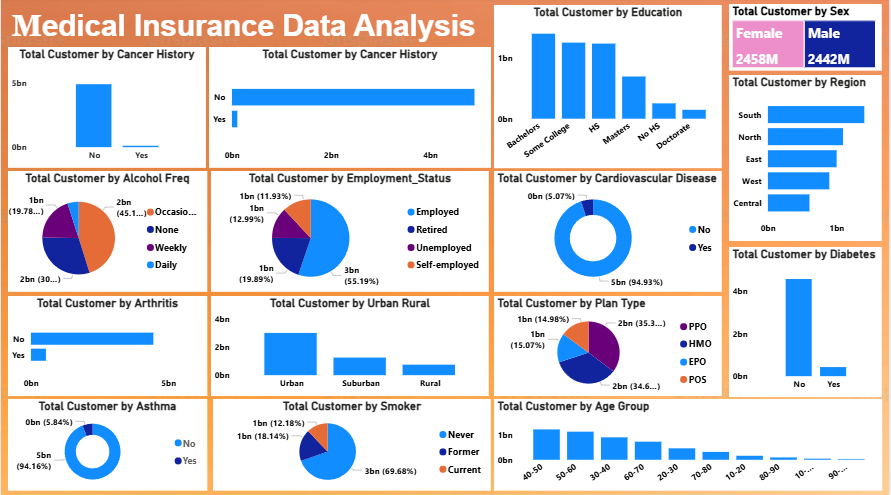

What the dashboard file says about the page in this screenshot:
{"tool":"powerbi","page":{"name":"Page 1","canvas":[1280,720],"ordinal":0},"visuals":[{"type":"textbox","box":[10.1,11.8,692.1,95.7],"z":0},{"type":"clusteredColumnChart","title":"Total Customer by Cancer History","fields":{"Category":["medical_insurance.cancer_history"],"Y":["Sum(medical_insurance.person_id)"]},"box":[10.1,72,285.1,174.2],"z":1000},{"type":"pieChart","title":"Total Customer by Alcohol Freq","fields":{"Category":["medical_insurance.alcohol_freq"],"Y":["Sum(medical_insurance.person_id)"]},"box":[10.1,250.9,286.6,174.2],"z":2000},{"type":"barChart","title":"Total Customer by Arthritis","fields":{"Category":["medical_insurance.arthritis"],"Y":["Sum(medical_insurance.person_id)"]},"box":[10.1,430.9,286.6,144],"z":3000},{"type":"donutChart","title":"Total Customer by Asthma","fields":{"Category":["medical_insurance.asthma"],"Y":["Sum(medical_insurance.person_id)"]},"box":[10.1,578.9,286.6,132.5],"z":4000},{"type":"treemap","title":"Total Customer by Sex","fields":{"Group":["medical_insurance.sex"],"Values":["Sum(medical_insurance.person_id)"]},"box":[1048.3,10.1,220.3,96.5],"z":5000},{"type":"barChart","title":"Total Customer by Cancer History","fields":{"Category":["medical_insurance.cancer_history"],"Y":["Sum(medical_insurance.person_id)"]},"box":[299.5,72,406.1,174.2],"z":6000},{"type":"donutChart","title":"Total Customer by Cardiovascular Disease","fields":{"Category":["medical_insurance.cardiovascular_disease"],"Y":["Sum(medical_insurance.person_id)"]},"box":[709.9,250.6,328.3,174.2],"z":7000},{"type":"clusteredColumnChart","title":"Total Customer by Diabetes","fields":{"Category":["medical_insurance.diabetes"],"Y":["Sum(medical_insurance.person_id)"]},"box":[1048.3,360,220.3,216],"z":8000},{"type":"clusteredColumnChart","title":"Total Customer by Education","fields":{"Category":["medical_insurance.education"],"Y":["Sum(medical_insurance.person_id)"]},"box":[709.9,11.5,328.3,234.7],"z":9000},{"type":"pieChart","title":"Total Customer by Employment_Status","fields":{"Category":["medical_insurance.employment_status"],"Y":["Sum(medical_insurance.person_id)"]},"box":[302.4,250.6,400.3,174.2],"z":10000},{"type":"columnChart","title":"Total Customer by Age Group","fields":{"Category":["medical_insurance.Age Group"],"Y":["Sum(medical_insurance.person_id)"]},"box":[709.9,578.9,558.7,132.5],"z":11000},{"type":"barChart","title":"Total Customer by Region","fields":{"Category":["medical_insurance.region"],"Y":["Sum(medical_insurance.person_id)"]},"box":[1048.3,112.3,220.3,239],"z":12000},{"type":"pieChart","title":"Total Customer by Smoker","fields":{"Category":["medical_insurance.smoker"],"Y":["Sum(medical_insurance.person_id)"]},"box":[305.3,578.9,400.3,132.5],"z":13000},{"type":"columnChart","title":"Total Customer by Urban Rural","fields":{"Category":["medical_insurance.urban_rural"],"Y":["Sum(medical_insurance.person_id)"]},"box":[302.4,430.6,400.3,144],"z":14000},{"type":"pieChart","title":"Total Customer by Plan Type","fields":{"Category":["medical_insurance.plan_type"],"Y":["Sum(medical_insurance.person_id)"]},"box":[709.9,430.6,328.3,144],"z":15000}]}

Visuals, with their boxes in screenshot pixels (x1, y1, x2, y2), scaled from the page's 1280x720 canvas onto the 891x495 screenshot:
textbox: l=7, t=8, r=489, b=74
"Total Customer by Cancer History" clusteredColumnChart: l=7, t=50, r=205, b=169
"Total Customer by Alcohol Freq" pieChart: l=7, t=172, r=207, b=292
"Total Customer by Arthritis" barChart: l=7, t=296, r=207, b=395
"Total Customer by Asthma" donutChart: l=7, t=398, r=207, b=489
"Total Customer by Sex" treemap: l=730, t=7, r=883, b=73
"Total Customer by Cancer History" barChart: l=208, t=50, r=491, b=169
"Total Customer by Cardiovascular Disease" donutChart: l=494, t=172, r=723, b=292
"Total Customer by Diabetes" clusteredColumnChart: l=730, t=248, r=883, b=396
"Total Customer by Education" clusteredColumnChart: l=494, t=8, r=723, b=169
"Total Customer by Employment_Status" pieChart: l=210, t=172, r=489, b=292
"Total Customer by Age Group" columnChart: l=494, t=398, r=883, b=489
"Total Customer by Region" barChart: l=730, t=77, r=883, b=242
"Total Customer by Smoker" pieChart: l=213, t=398, r=491, b=489
"Total Customer by Urban Rural" columnChart: l=210, t=296, r=489, b=395
"Total Customer by Plan Type" pieChart: l=494, t=296, r=723, b=395
